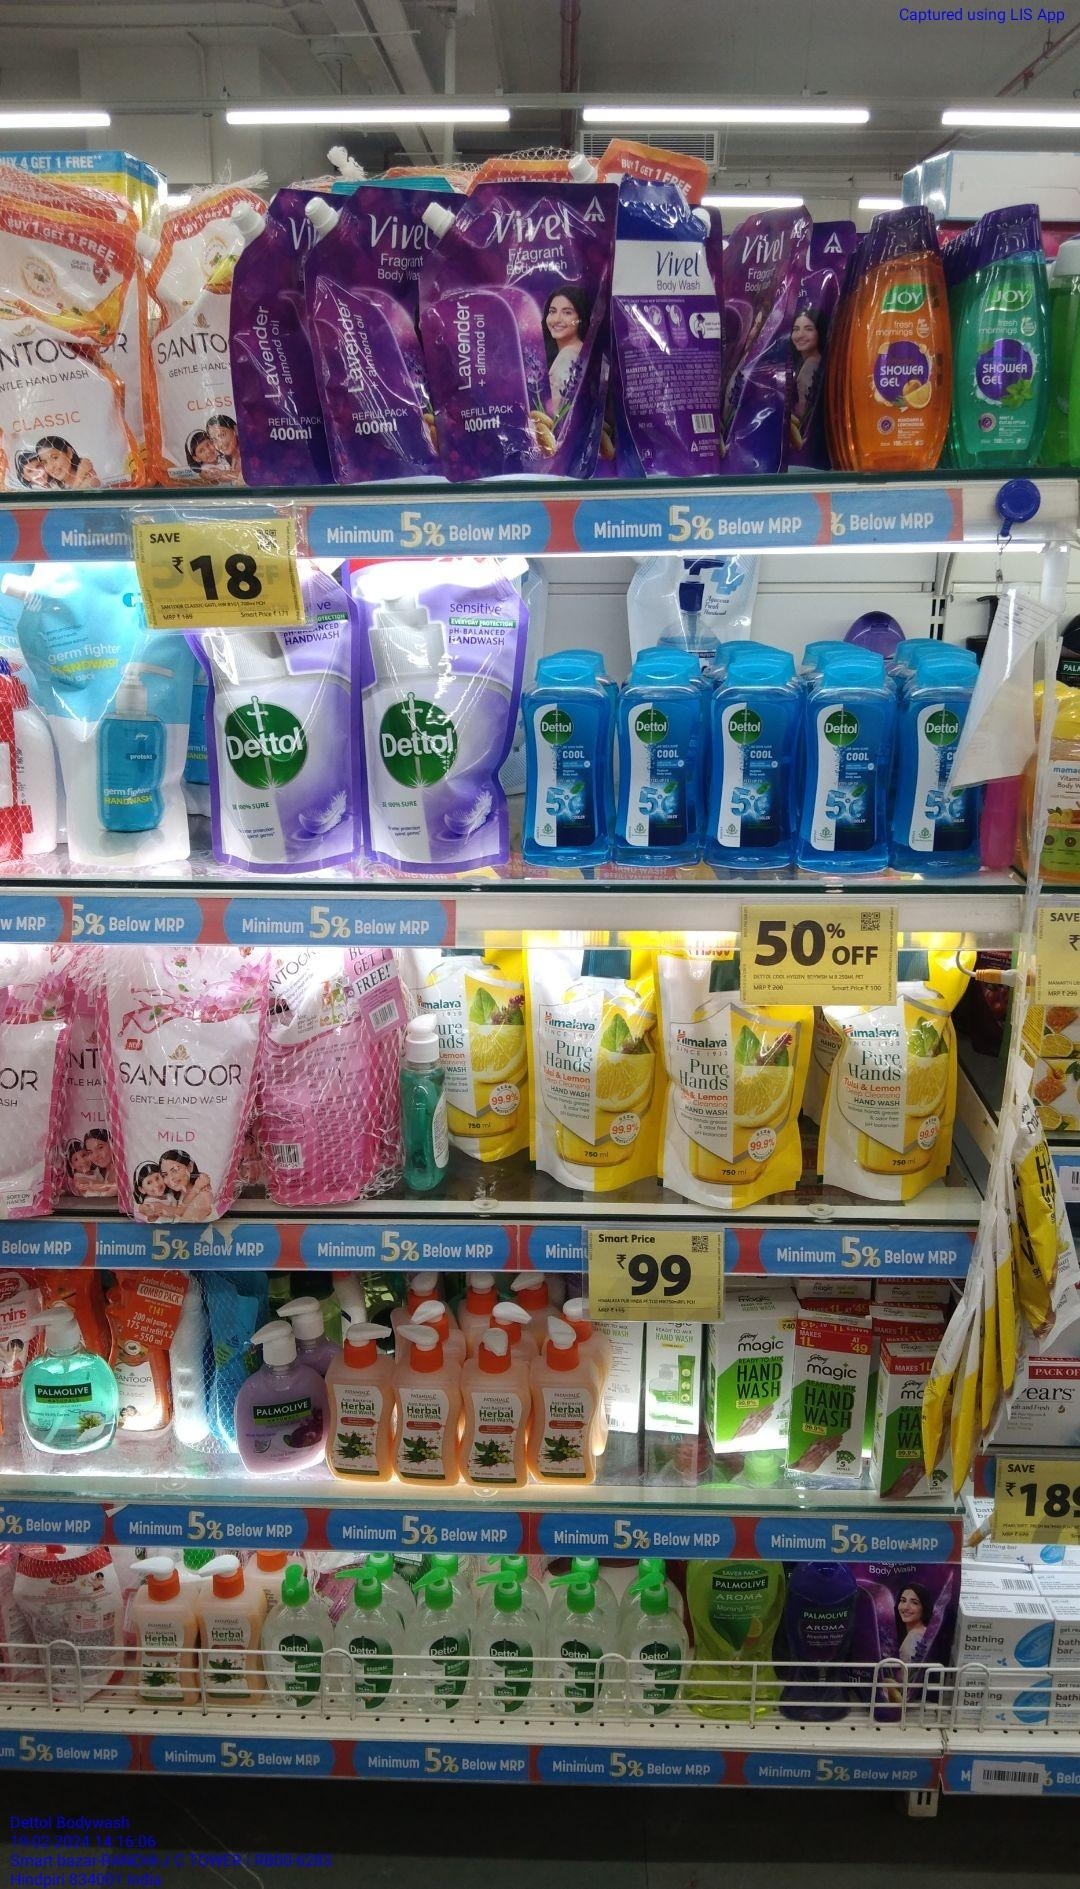Dettol_Bodywash_Cool: (801, 658, 890, 877), (614, 658, 704, 865), (522, 654, 610, 864), (710, 659, 797, 869), (896, 655, 966, 874)
Joy_Shower_Gel_Mandarin_and_Lemongrass_250ML: (848, 202, 949, 476)
Joy_Shower_Gel_Mint_and_Eucalyptus_250ML: (955, 201, 1051, 464)
Palmolive_Aroma_Relax_250ML: (787, 1561, 852, 1720)
